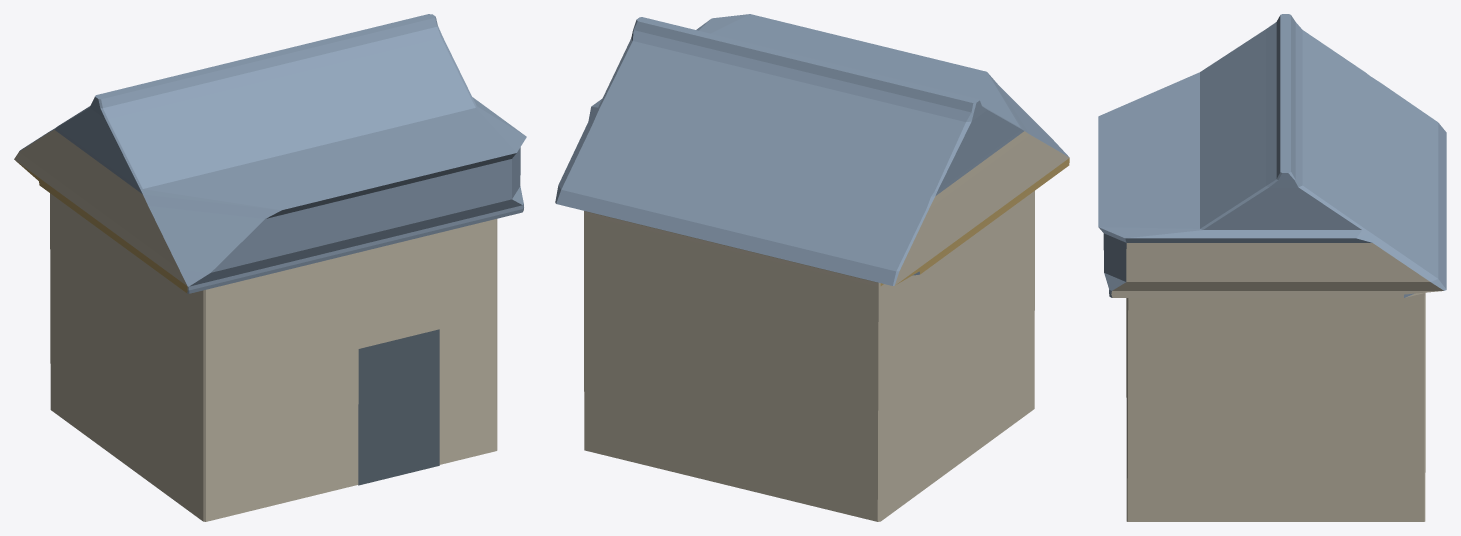
The model's file is loin.glb.
3 renders of one model, left to right at view 1: azimuth 30°, elevation 25°; view 2: azimuth 150°, elevation 25°; view 3: azimuth 270°, elevation 25°, orthographic. The views are drawn at different scales.
Visible parts, largest first — view 1: loin; view 2: loin; view 3: loin.
Part boxes in pixels (x1,y1,x2,y2): loin: (14, 14, 526, 521); loin: (555, 14, 1069, 521); loin: (1098, 14, 1446, 521).
Size of the model in its own units: 0.8701 by 0.8866 by 0.7826.
